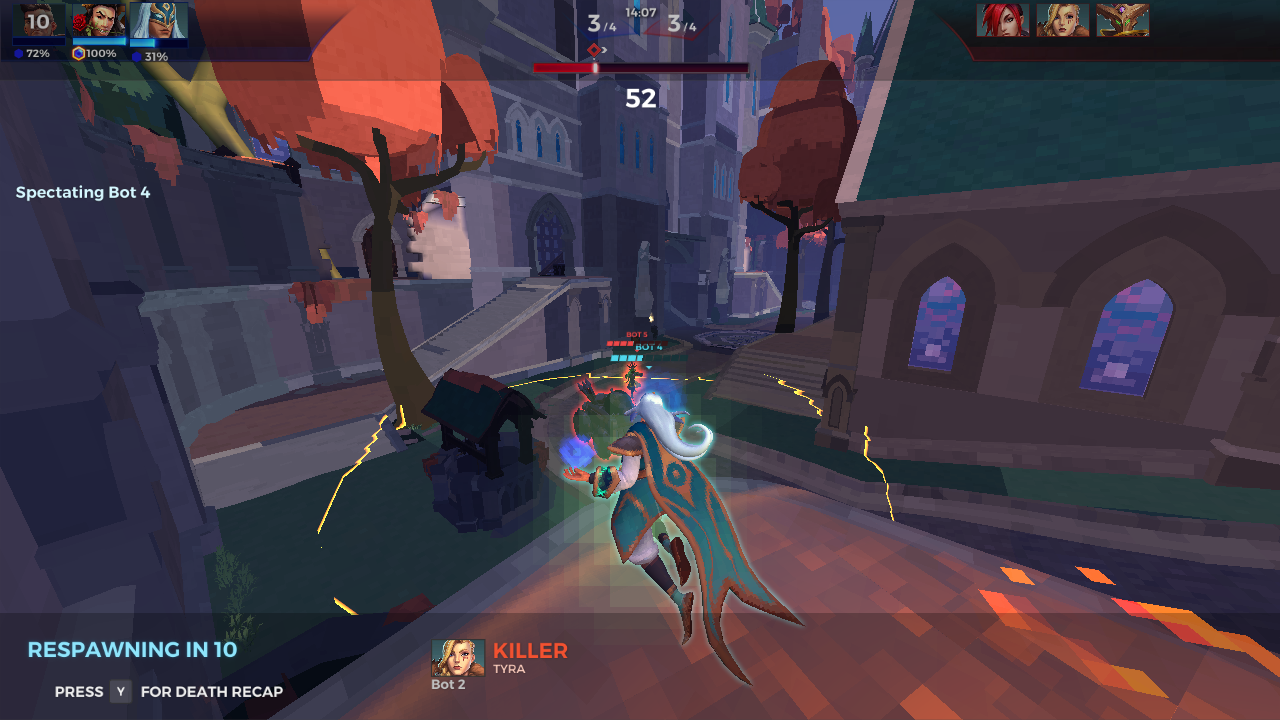model: (624, 363, 634, 391)
